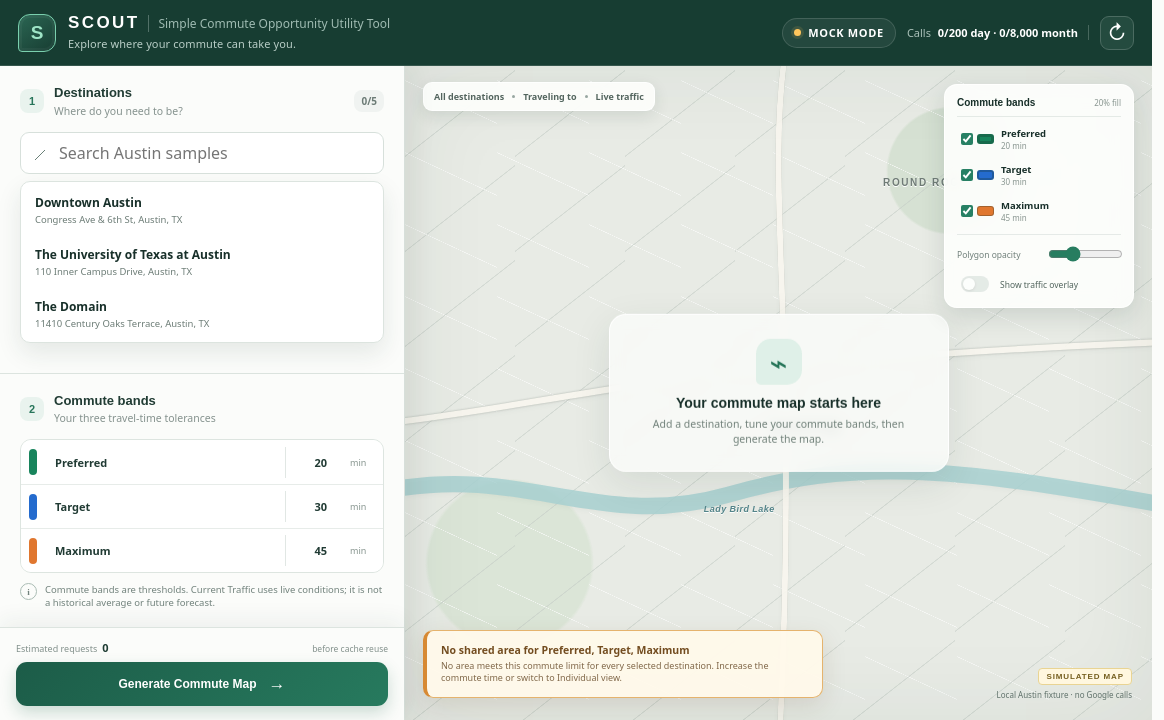
Test case: SCOUT application › adds a sample destination, edits a band, and displays generated mock results
Expected: the text "Downtown Austin" is shown, top-left (35, 194), bottom-right (142, 211)
Step 1. Click the button "Downtown Austin Congress Ave & 6th St, Austin, TX" → (88, 202), box top-left (25, 186), bottom-right (379, 234)
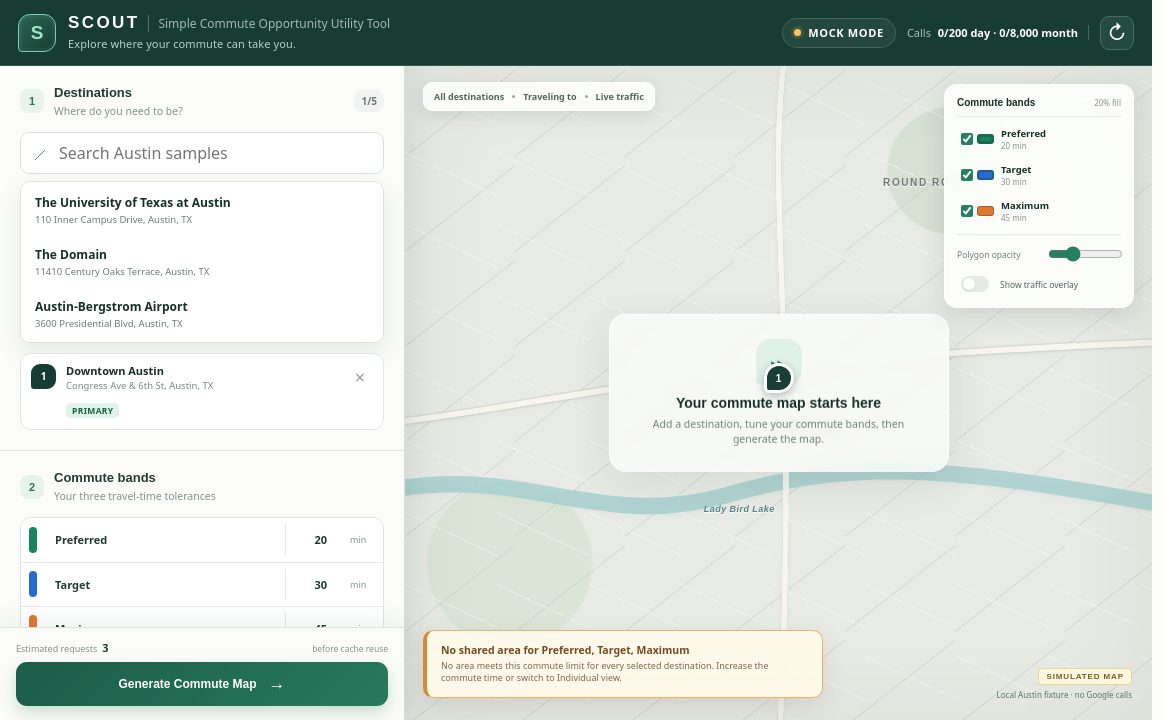
Step 2. Replace the text in the 1st number field labelled "min" with "18" → (320, 540), box top-left (290, 524), bottom-right (350, 555)
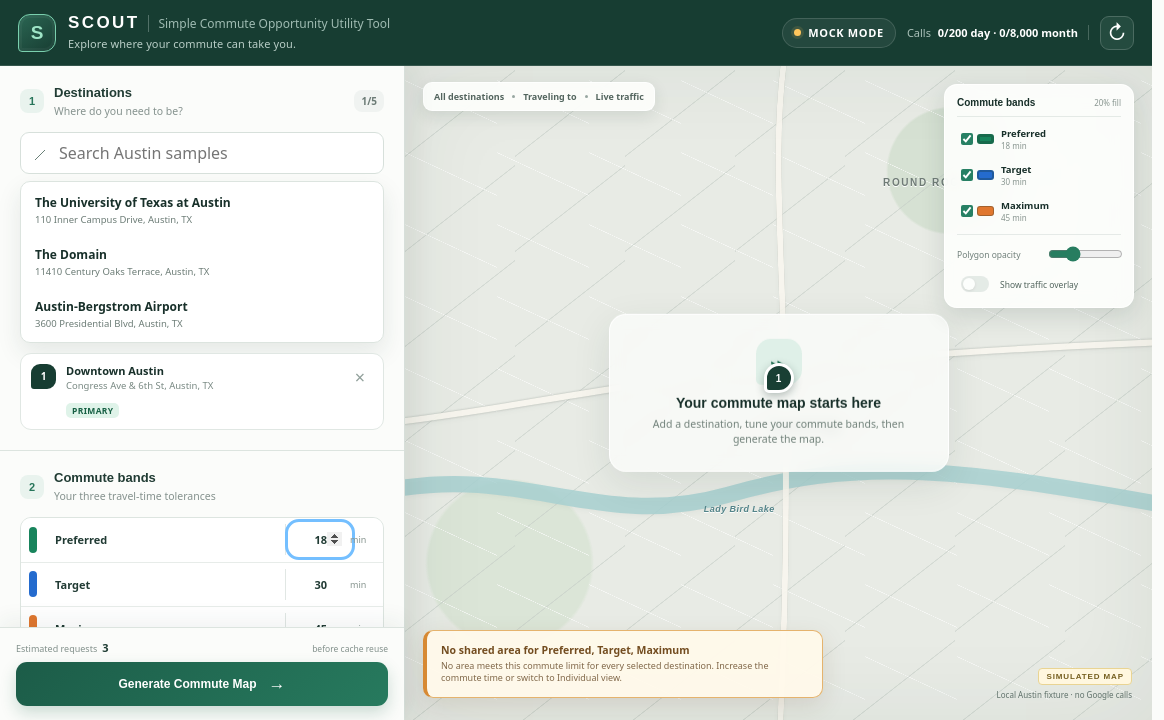
Step 3. Click the button "Generate Commute Map →" → (202, 684), box top-left (16, 662), bottom-right (388, 706)
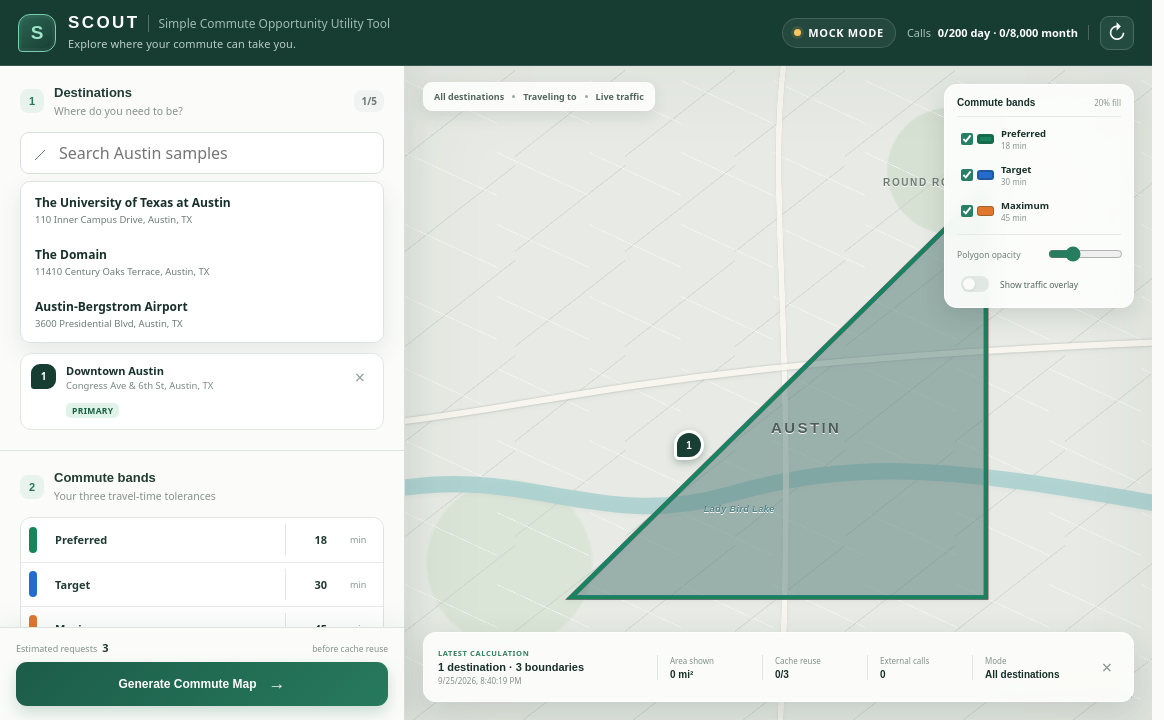
Result: the text "1 destination · 3 boundaries" is shown at top-left (438, 661), bottom-right (584, 673)
